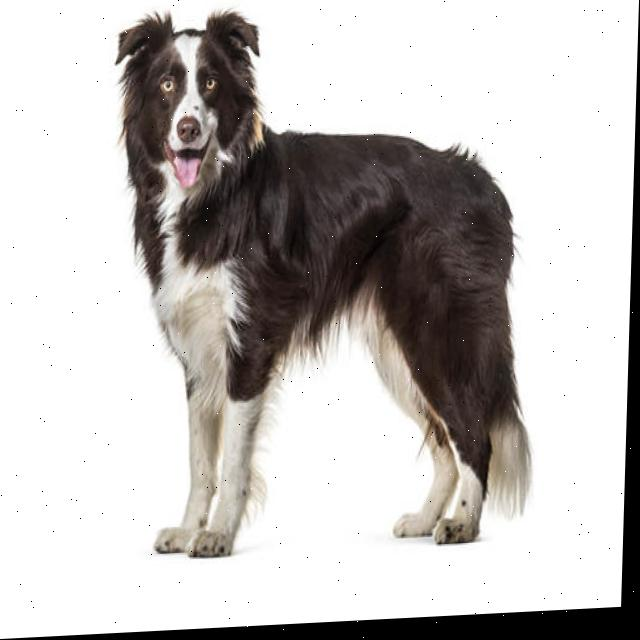BORDER_COLLIE: (87, 0, 559, 581)
